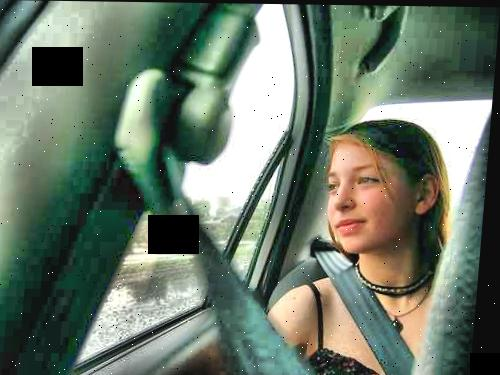seatbelt: (171, 204, 306, 370), (307, 235, 421, 368)
